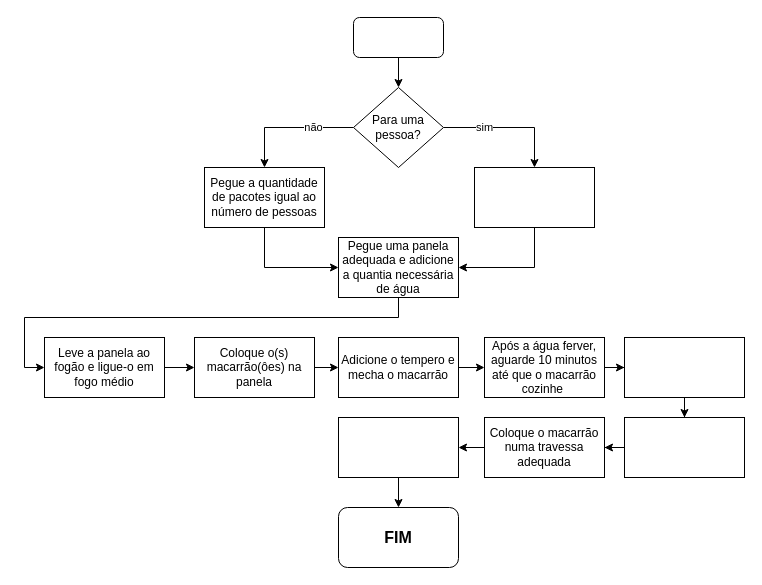
Image size: 762x585. Some labels were removed from this diagram. Here are the shapes that lost their labels. From the top down, the centre of each, then its label:
the point at 398,37: INÍCIO
the point at 534,197: Pegue 1 pacote
the point at 684,367: Desligue o fogão
the point at 398,447: Sirva
the point at 684,447: Escoe o macarrão num escorredor de macarrão
